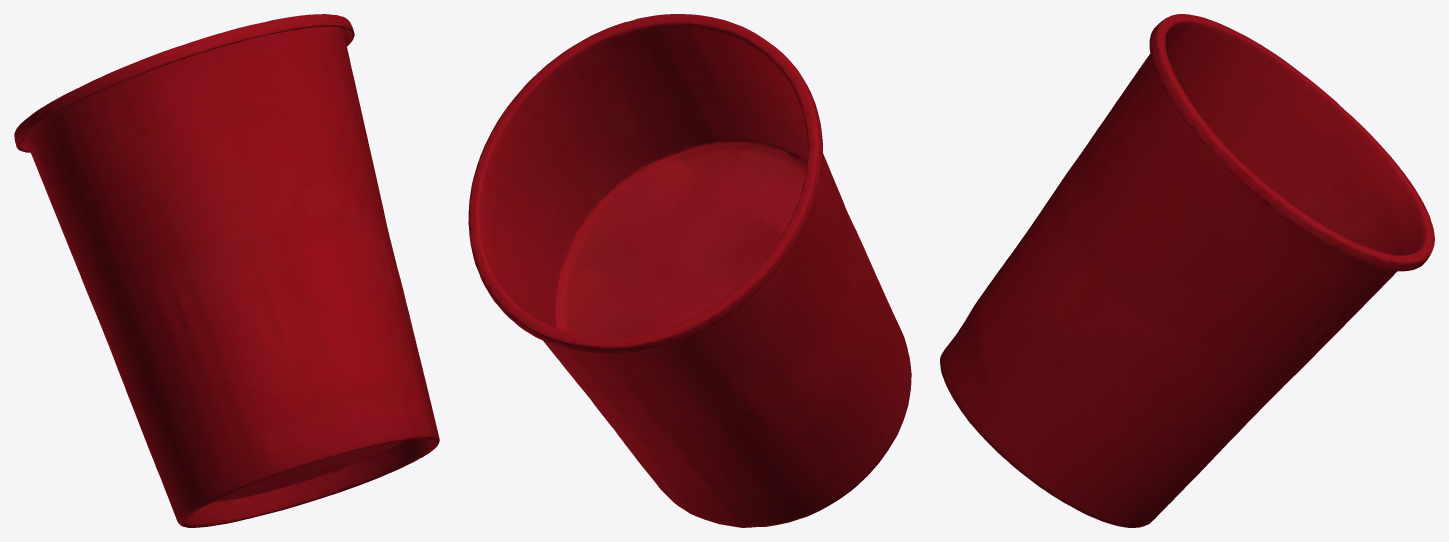
The model's file is pixal3d.glb.
The picture shows the model from 3 angles, left to right: view 1: azimuth 30°, elevation 25°; view 2: azimuth 150°, elevation 25°; view 3: azimuth 270°, elevation 25°; orthographic projection. The views are drawn at different scales.
Parts seen in each view (by area): view 1: world; view 2: world; view 3: world.
Part boxes in pixels (x1,y1,x2,y2): world: (14, 14, 439, 527); world: (468, 14, 911, 527); world: (940, 14, 1434, 527).
Bounding box in the file's own units: 0.5907 × 0.9018 × 0.8572.
1 material, 1 textured.
